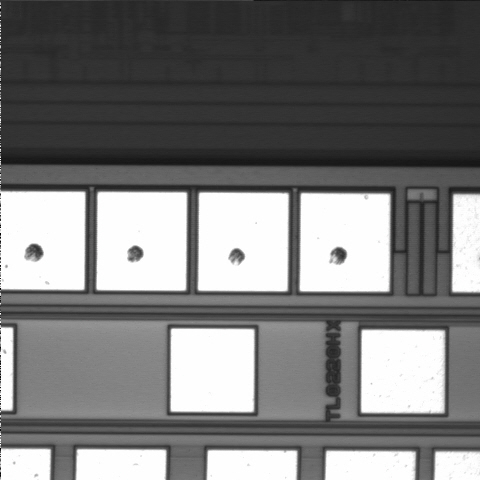pad: (97, 192, 187, 291), (198, 193, 288, 291), (300, 193, 390, 291), (171, 329, 254, 412), (361, 330, 444, 413)
